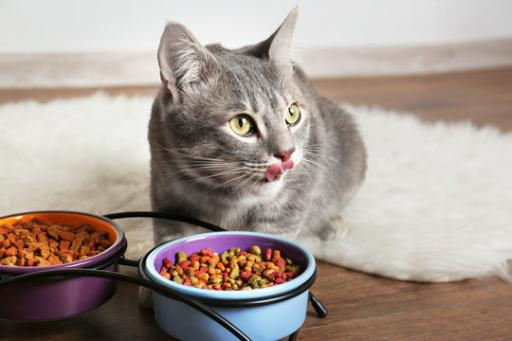cat_eating: (0, 10, 365, 340)
